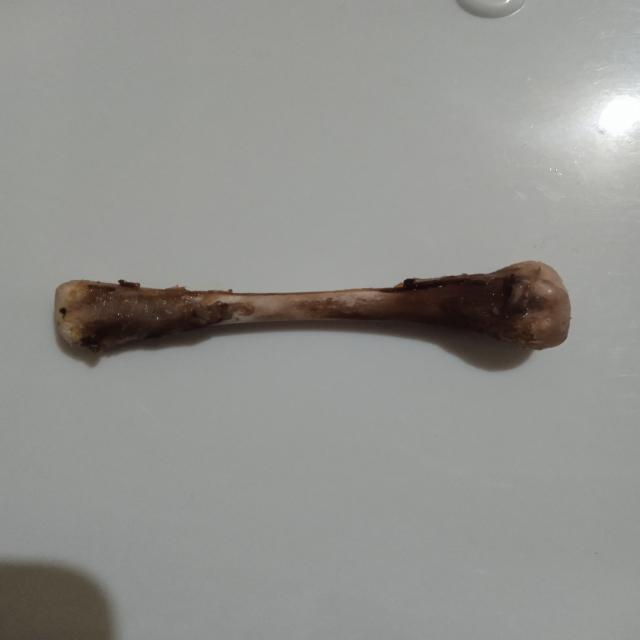bone: (42, 248, 592, 382)
